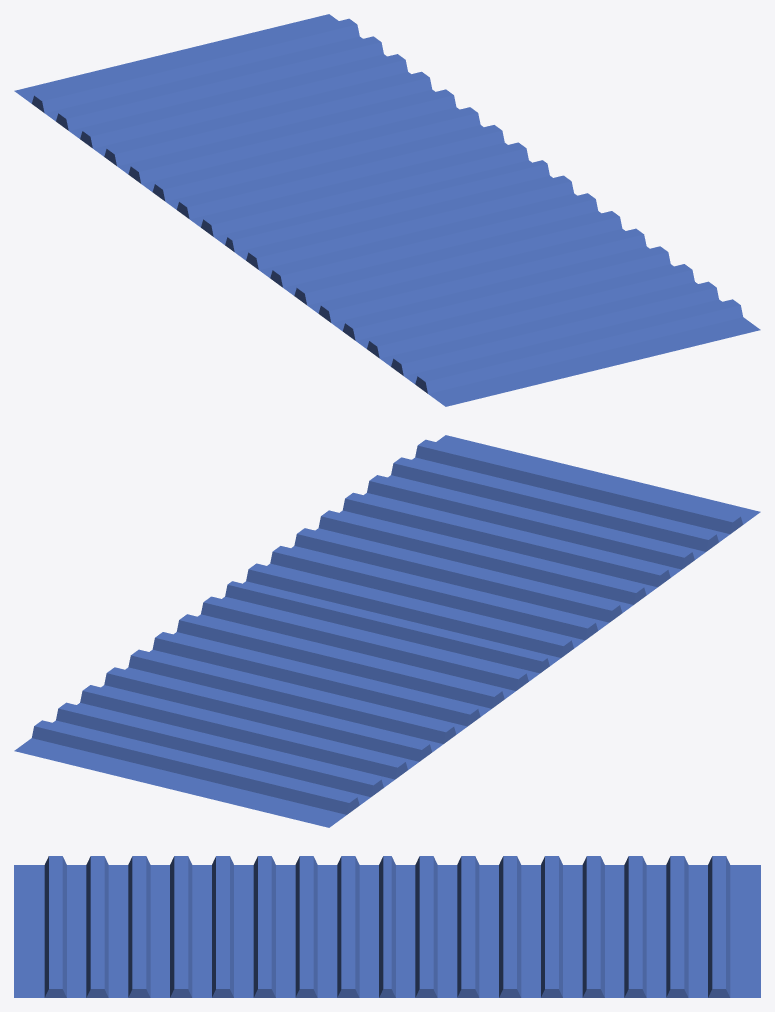
Rendered from ShippingContainers[Flats].fbx.
The picture shows the model from 3 angles, top to bottom: view 1: azimuth 30°, elevation 25°; view 2: azimuth 150°, elevation 25°; view 3: azimuth 270°, elevation 25°; orthographic projection. The views are drawn at different scales.
Visible parts, largest first — view 1: Blue[broken].001; view 2: Blue[broken].001; view 3: Blue[broken].001.
Part boxes in pixels (x1=…): Blue[broken].001: x1=14, y1=14, x2=760, y2=406; Blue[broken].001: x1=14, y1=435, x2=760, y2=827; Blue[broken].001: x1=14, y1=856, x2=760, y2=997.
Size of the model in its own units: 251 by 596 by 7.73.
